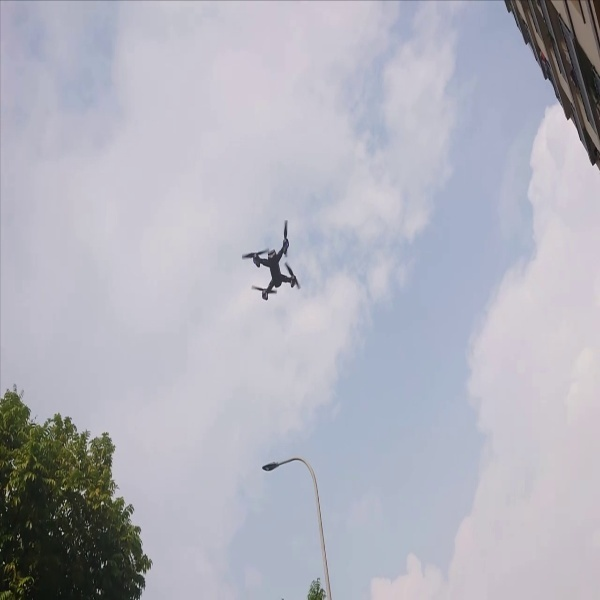drone: (233, 217, 315, 303)
